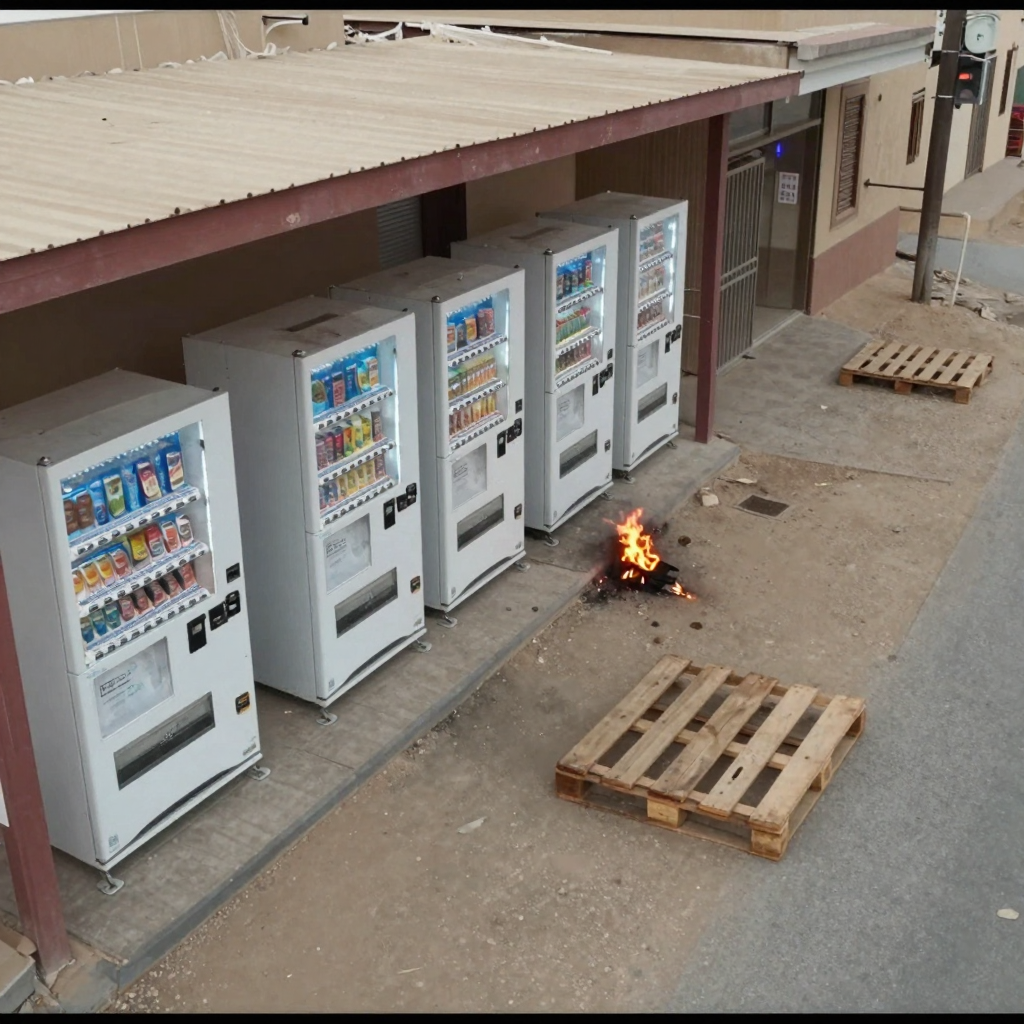Arson: (610, 504, 698, 597)
